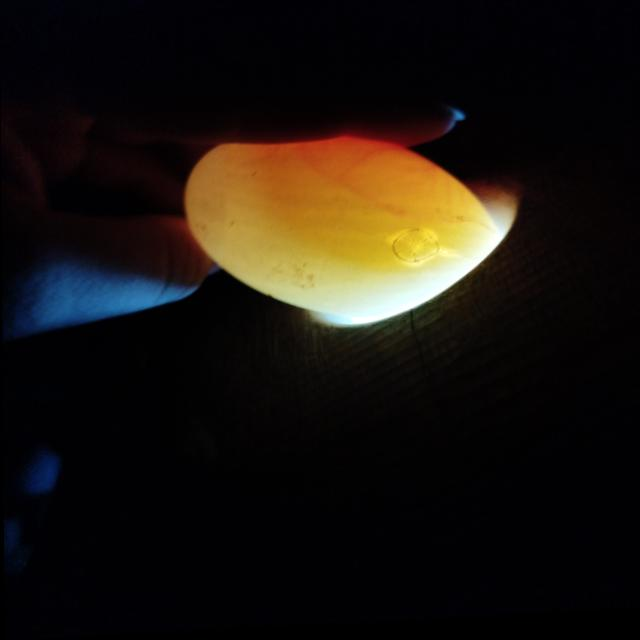Rachadura: (392, 233, 439, 265)
